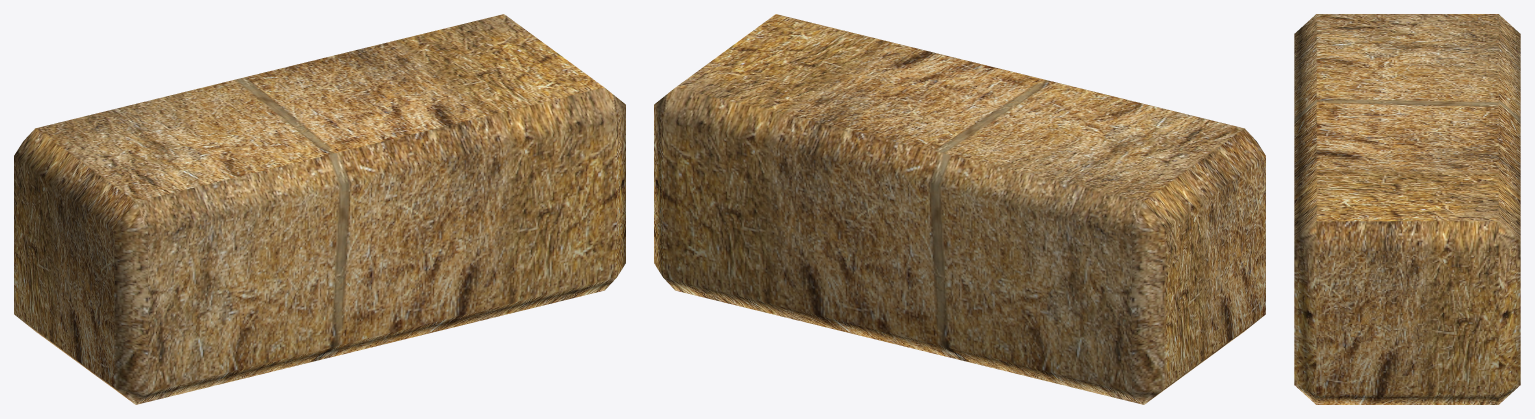
File: strohballen_02.fbx
The picture shows the model from 3 angles, left to right: view 1: azimuth 30°, elevation 25°; view 2: azimuth 150°, elevation 25°; view 3: azimuth 270°, elevation 25°; orthographic projection. The views are drawn at different scales.
Parts seen in each view (by area): view 1: Mesh; view 2: Mesh; view 3: Mesh.
Part boxes in pixels (x1,y1,x2,y2): Mesh: (14,14,625,404); Mesh: (654,14,1265,404); Mesh: (1294,14,1520,404).
Size of the model in its own units: 241 by 91.25 by 102.
